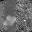people: (3, 15, 17, 26)
